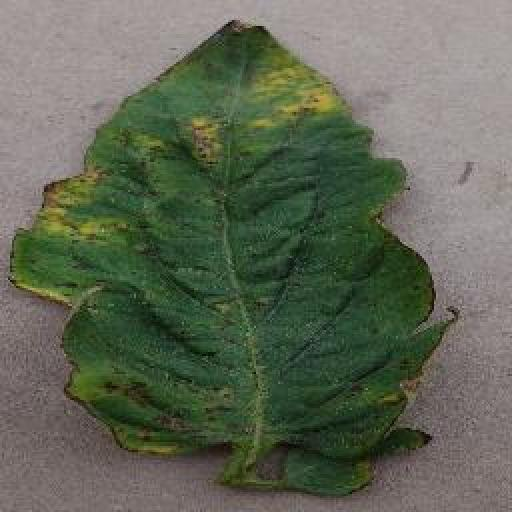Bacterial Spot: (5, 14, 463, 498)
